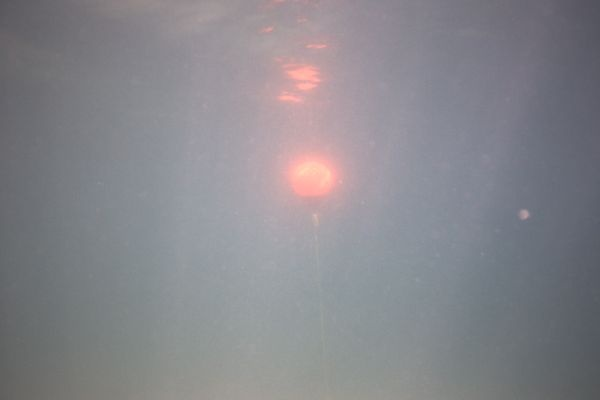buoy: (293, 163, 331, 209)
